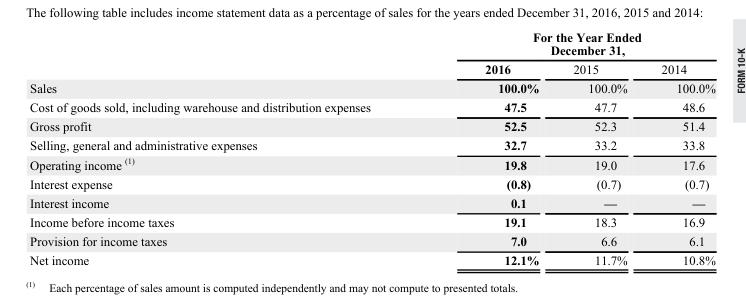table: (29, 29, 714, 267)
table column: (29, 29, 427, 267), (427, 29, 555, 267), (555, 29, 643, 267), (643, 29, 714, 267)
table column header: (29, 29, 714, 78)
table row: (29, 29, 714, 58), (29, 58, 714, 78), (29, 153, 714, 173), (29, 192, 714, 212), (29, 78, 714, 97), (29, 97, 714, 116), (29, 116, 714, 135), (29, 173, 714, 192), (29, 212, 714, 231), (29, 231, 714, 250), (29, 135, 714, 153), (29, 250, 714, 267)
table spanning cell: (427, 29, 714, 58)
